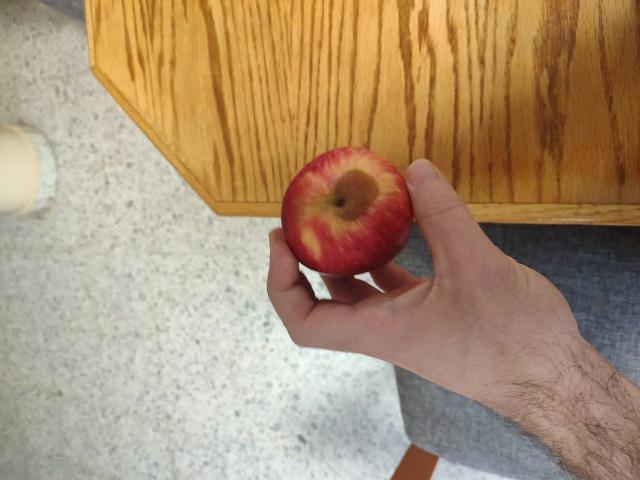apple: (268, 140, 449, 298)
